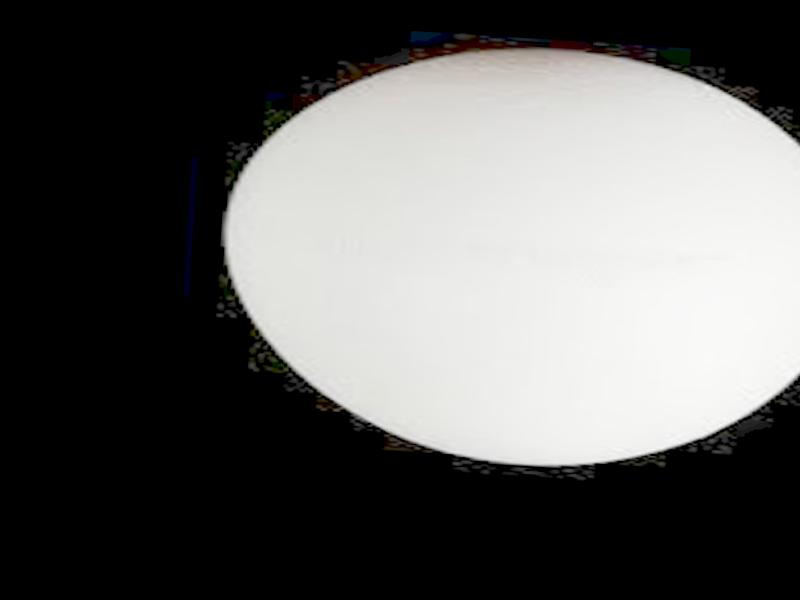Eggs: (214, 28, 800, 482)
